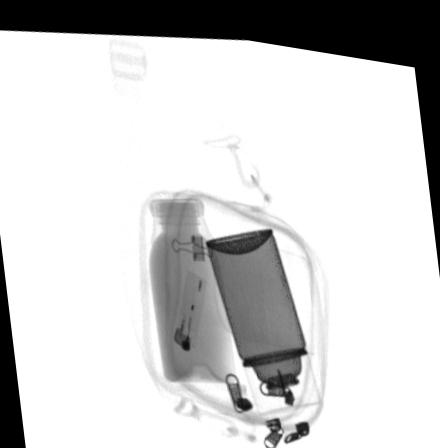Lighter: (171, 261, 207, 347)
Sprayer: (204, 220, 323, 407)
